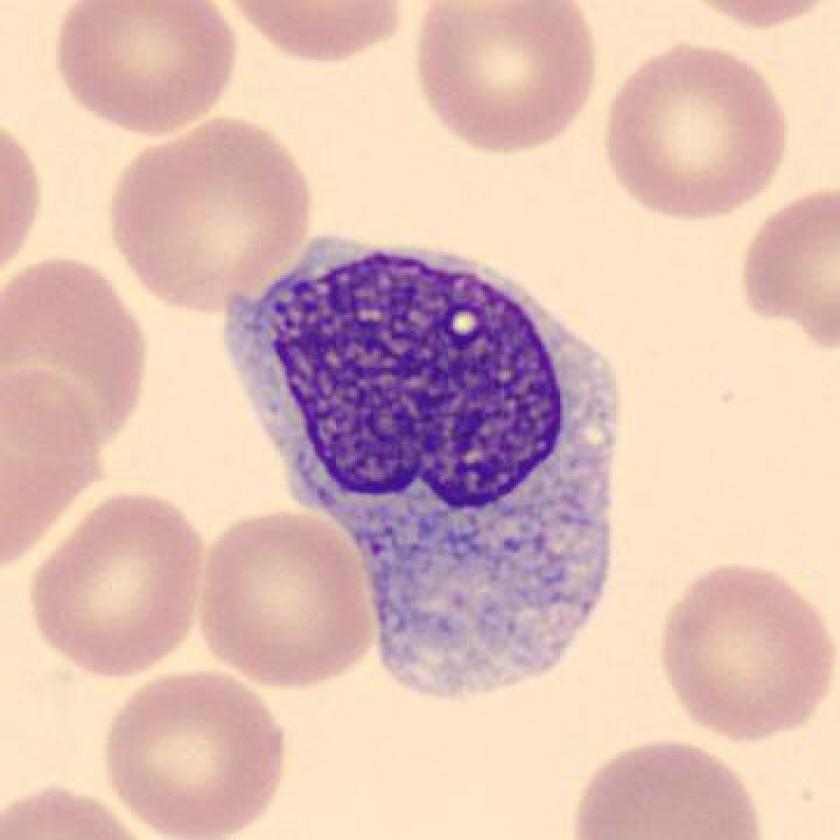monocyte: (207, 207, 648, 711)
